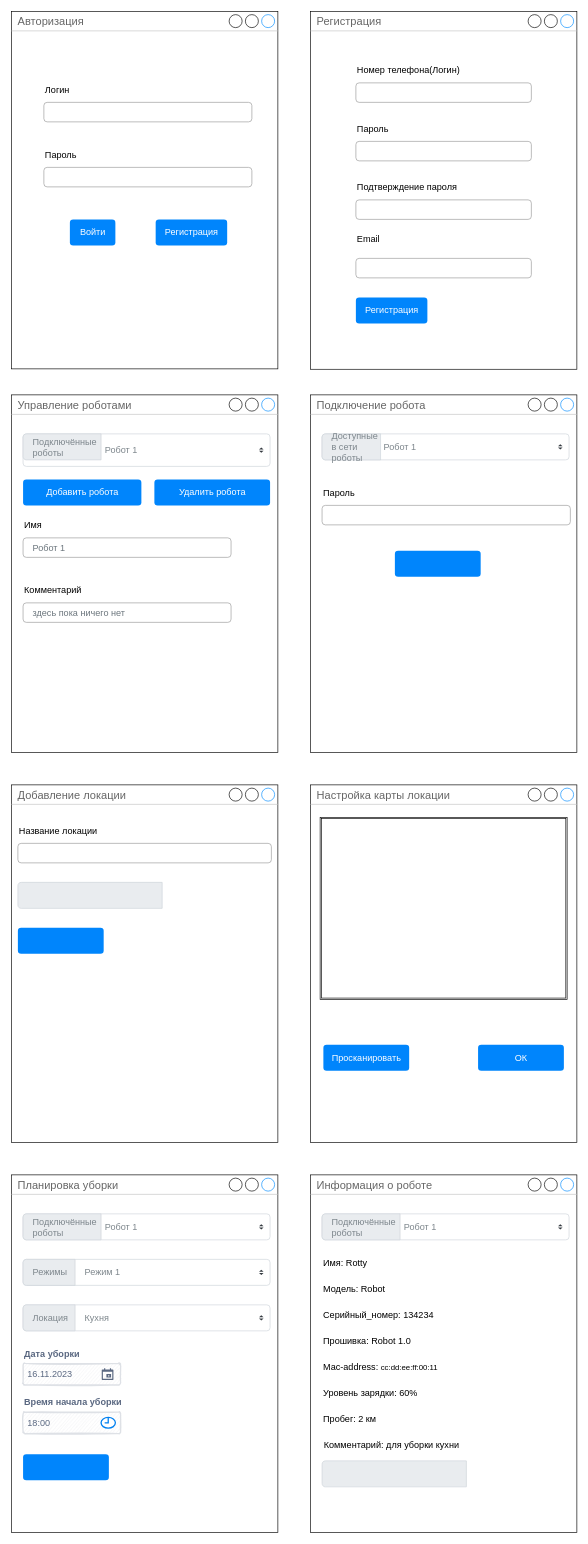
Some shapes in this 588 by 1544 pixel diagram are drawn without their labels. Here are the shapes that lost their labels. From the top down, the centre of each, then its label:
point 437,564: Подключить
point 89,895: Карта локации
point 443,908: Карта помещения
point 60,941: Добавить
point 66,1467: Запланировать
point 393,1473: Подробное состояние робота
